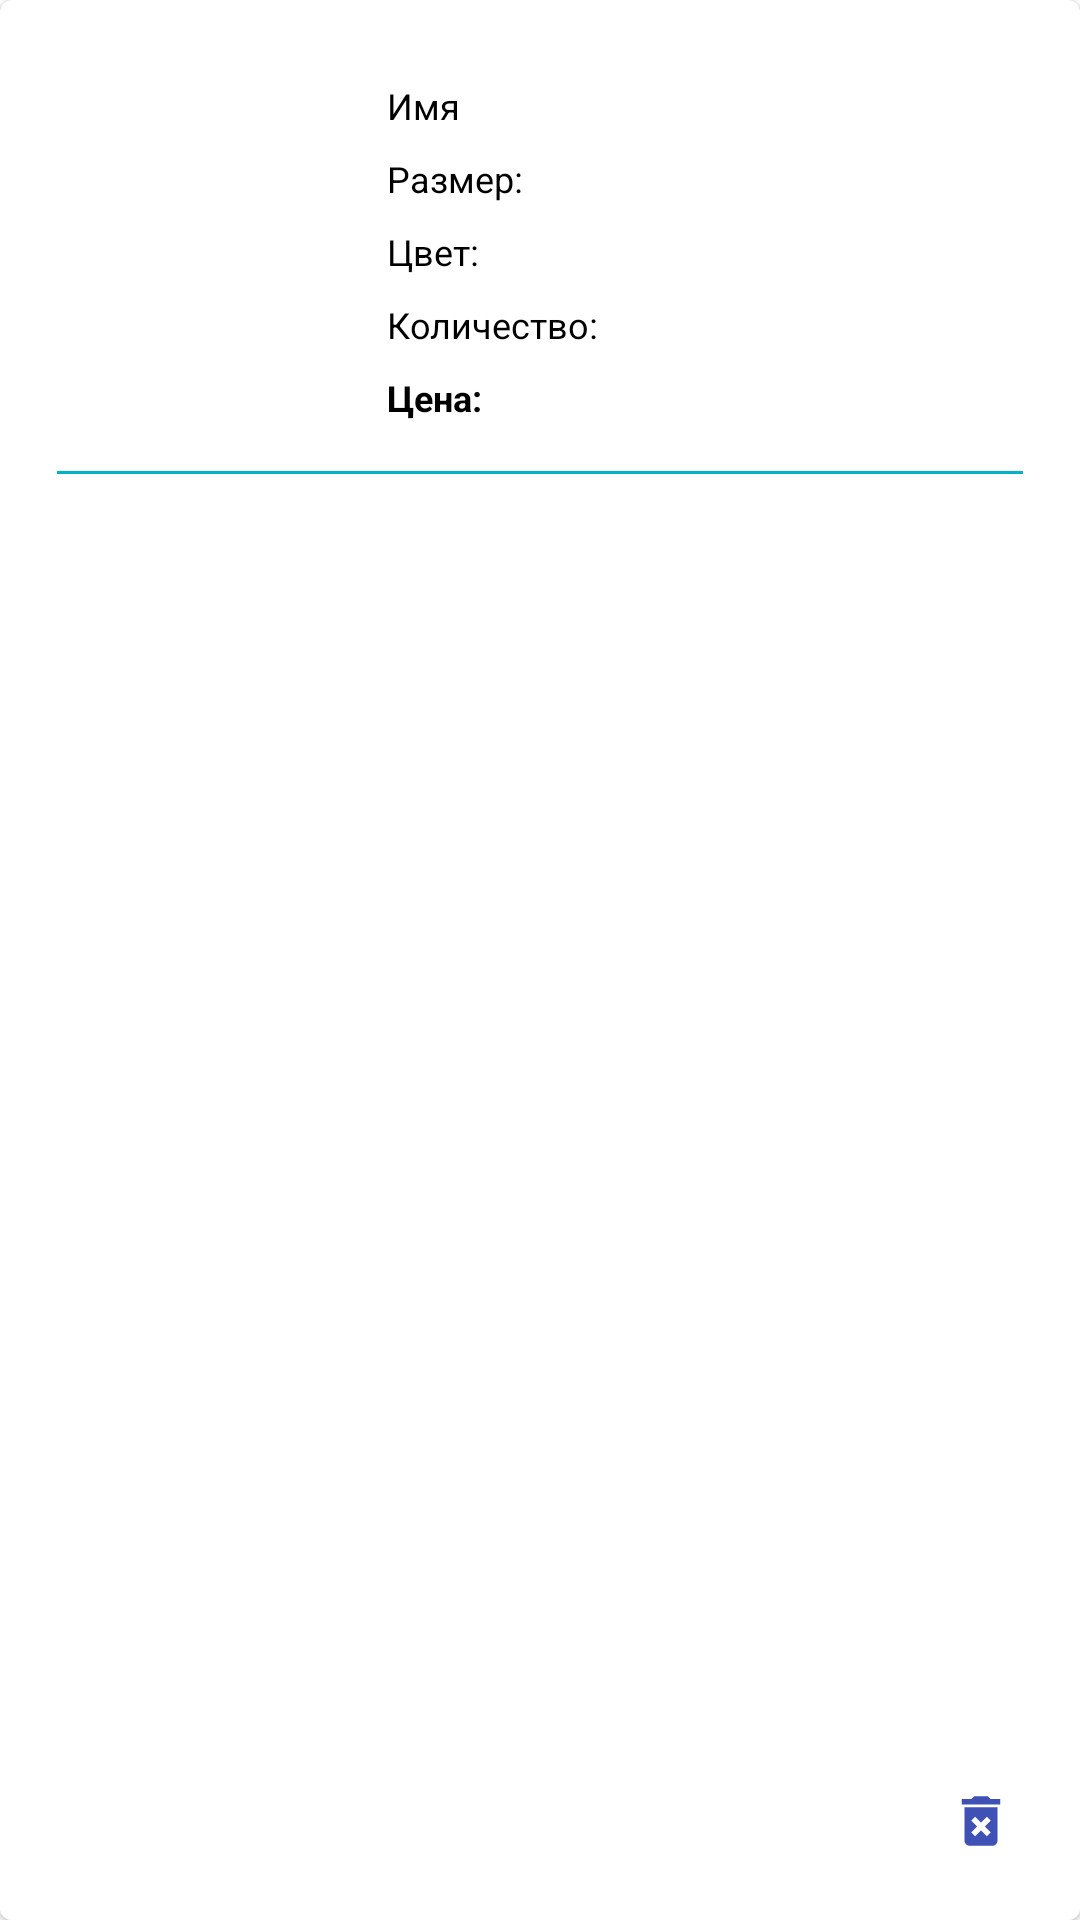

Icons on this 1080w x 1920h Android screen, each with its box as {"left": x1, "top": y1, "right": x2, "bottom": y2}:
delete: {"left": 961, "top": 1796, "right": 1001, "bottom": 1846}
